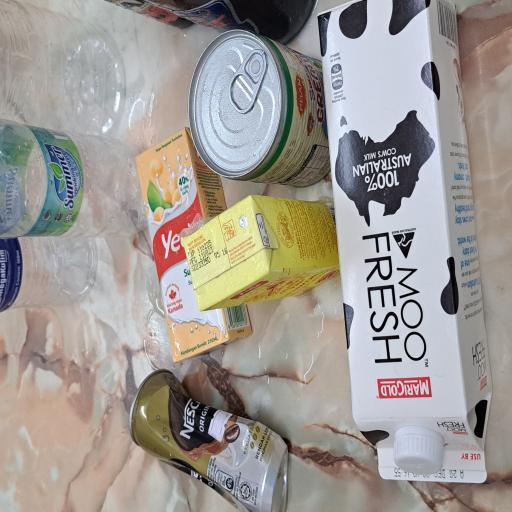can: (0, 166, 109, 389), (246, 249, 360, 445)
drink carton: (25, 428, 384, 512), (116, 176, 288, 334), (144, 244, 232, 450)
glass bottle: (351, 185, 384, 421)
plastic bottle: (282, 0, 384, 164), (208, 0, 291, 188), (150, 0, 216, 130)
pop tab: (304, 309, 344, 363)
